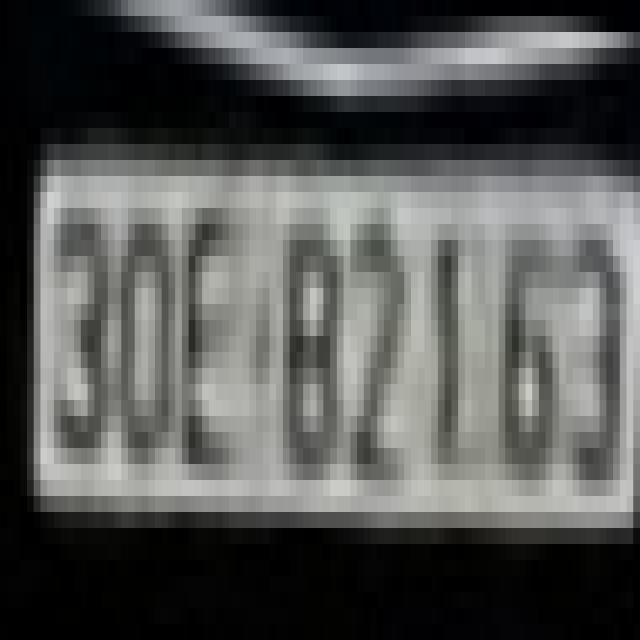0: (115, 208, 175, 464)
2: (350, 208, 411, 480)
3: (47, 208, 115, 464), (566, 224, 626, 496)
6: (499, 224, 559, 480)
8: (283, 208, 344, 480)
9: (566, 224, 626, 496)
E: (182, 192, 249, 480)
